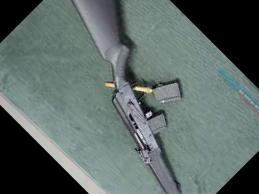larga: (69, 0, 183, 194)
